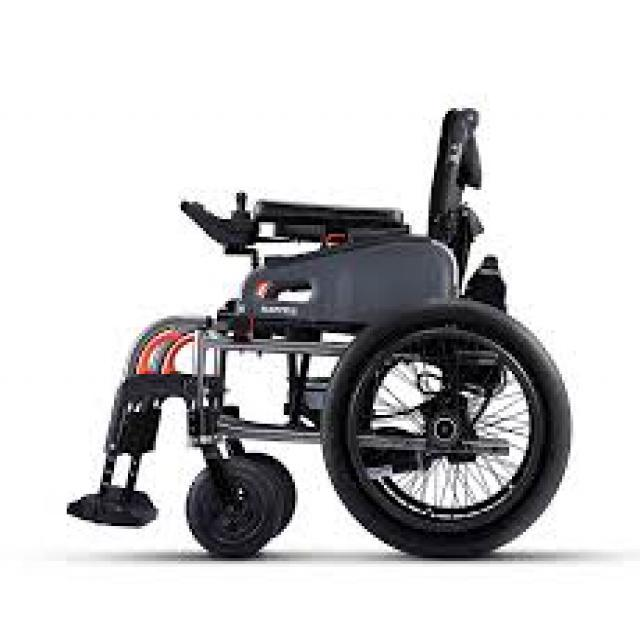wheelchair: (59, 105, 574, 567)
